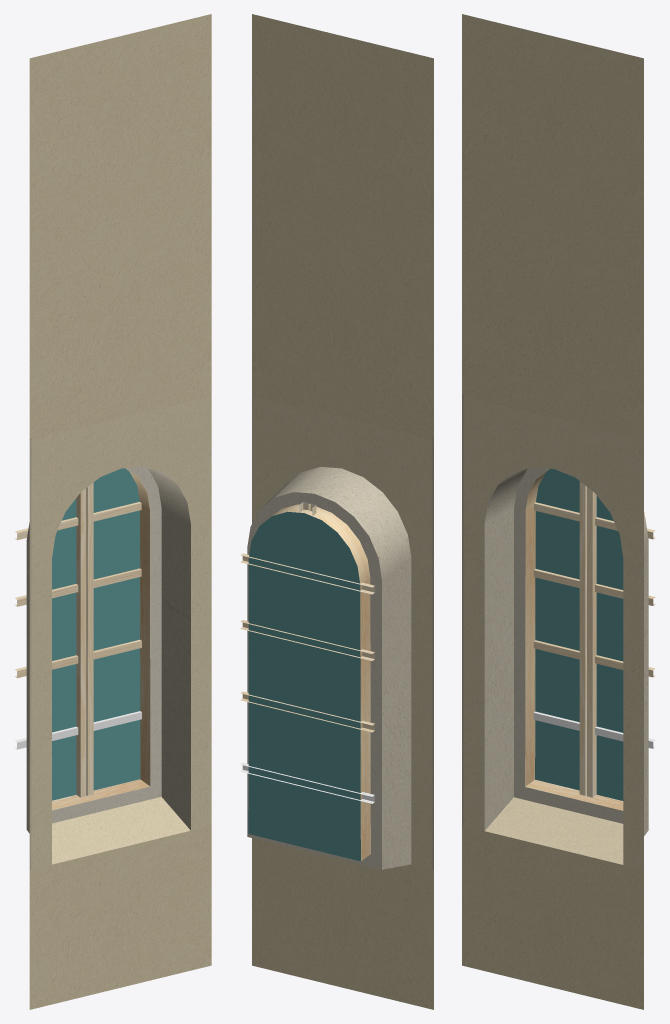
The model's file is lib_set_01_window_03.fbx.
3 views of the same model, side by side, from view 1: azimuth 30°, elevation 25°; view 2: azimuth 150°, elevation 25°; view 3: azimuth 330°, elevation 25° (orthographic).
Parts seen in each view (by area): view 1: polySurface2, lib_set_01_glass_01; view 2: polySurface2, lib_set_01_glass_01; view 3: polySurface2, lib_set_01_glass_01.
Boxes of the visible parts, bbox=[...] form: polySurface2: bbox=[15, 14, 211, 1009]; lib_set_01_glass_01: bbox=[52, 468, 140, 800]; polySurface2: bbox=[240, 14, 433, 1009]; lib_set_01_glass_01: bbox=[248, 511, 360, 861]; polySurface2: bbox=[462, 14, 655, 1009]; lib_set_01_glass_01: bbox=[535, 468, 623, 800].
Bounding box in the file's own units: 2 × 10 × 0.7308.
2 materials, 1 textured.
